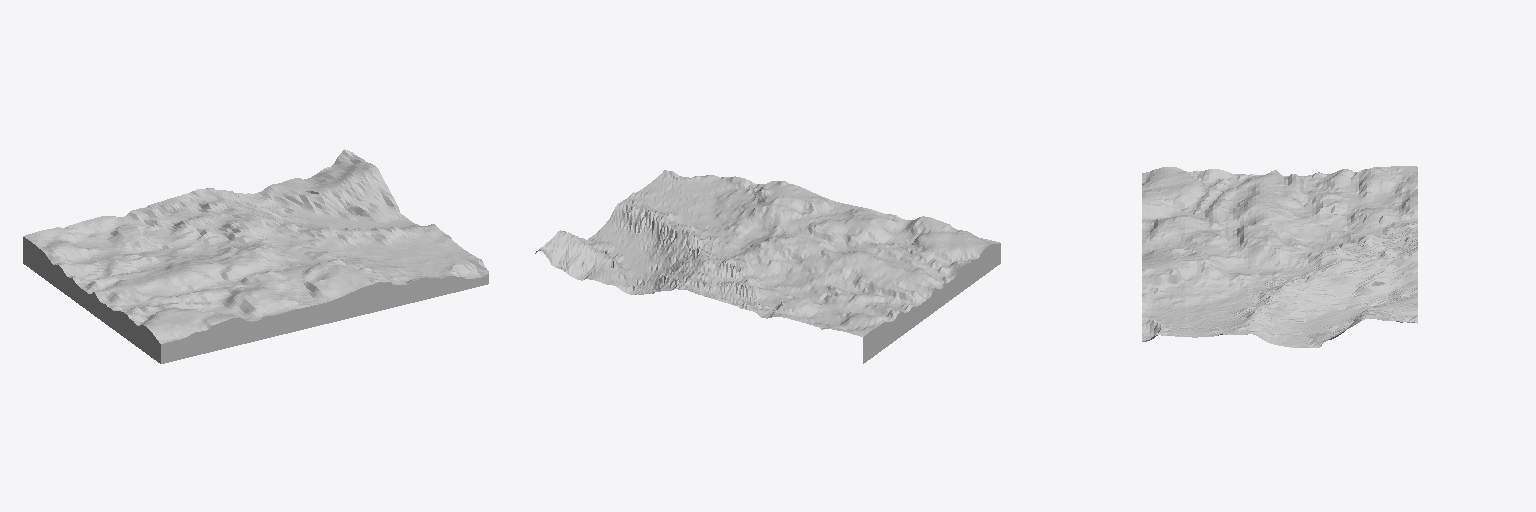
File: gale_crater_LLC.obj
The picture shows the model from 3 angles: view 1: azimuth 30°, elevation 25°; view 2: azimuth 150°, elevation 25°; view 3: azimuth 270°, elevation 25°; orthographic projection.
Parts seen in each view (by area): view 1: mesh_LLC; view 2: mesh_LLC; view 3: mesh_LLC.
Boxes of the visible parts, x1,y1,x2,y2 form: mesh_LLC: [23, 149, 488, 363]; mesh_LLC: [535, 170, 1000, 363]; mesh_LLC: [1142, 166, 1417, 347].
Size of the model in its own units: 554 by 57.08 by 404.